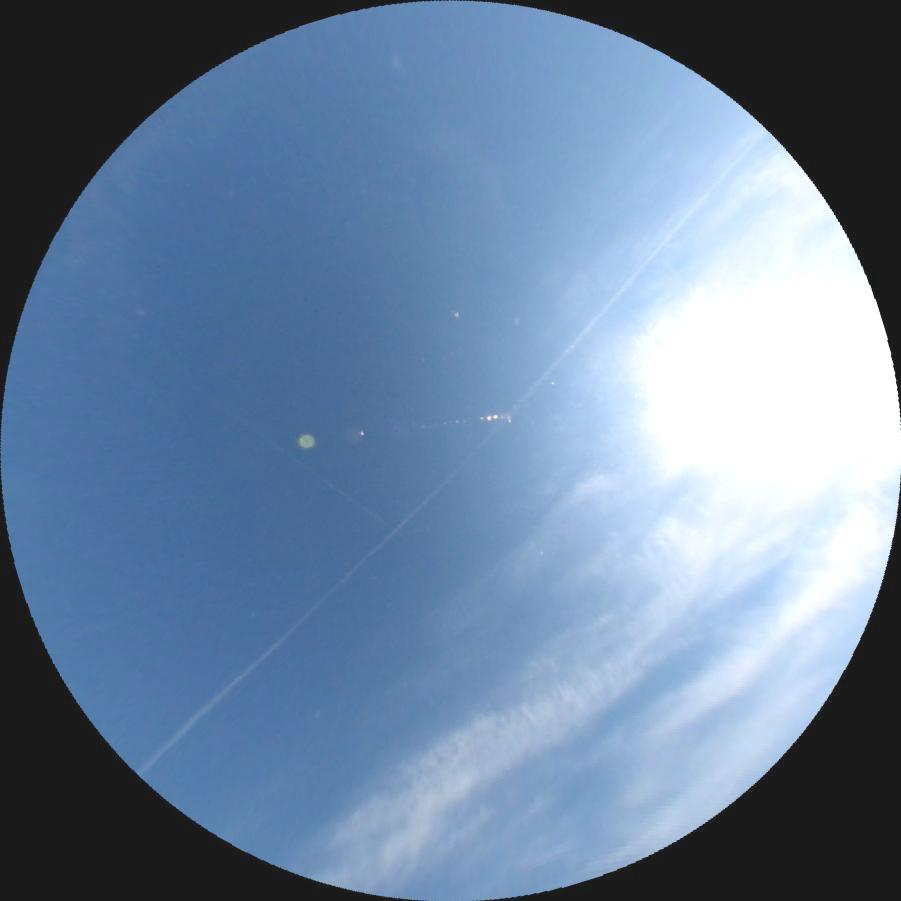contrail young: (135, 127, 777, 785), (237, 414, 390, 528)
sun: (654, 295, 901, 456)
